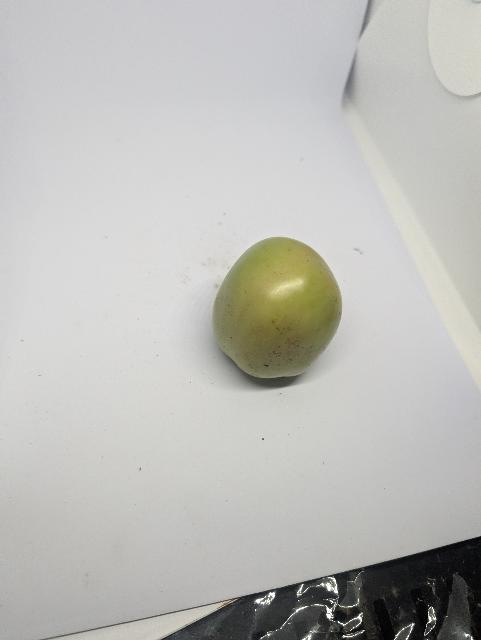green: (210, 234, 345, 381)
